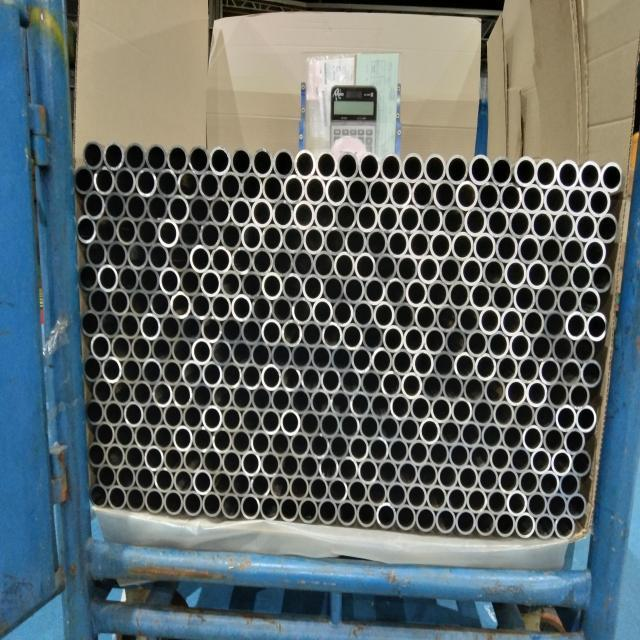pipe: (455, 179, 478, 212), (477, 180, 500, 213), (442, 205, 465, 237), (490, 155, 513, 187), (600, 161, 623, 193), (177, 168, 200, 200), (346, 176, 369, 208), (433, 179, 456, 211), (499, 181, 522, 213), (566, 185, 589, 217), (588, 186, 611, 218), (420, 204, 443, 235), (464, 206, 487, 237), (486, 207, 509, 238), (508, 208, 531, 239), (531, 209, 554, 240), (552, 210, 575, 241), (408, 229, 431, 260), (429, 229, 452, 260), (473, 232, 496, 263), (517, 234, 540, 265), (540, 235, 563, 266), (562, 236, 585, 267), (439, 255, 462, 286), (504, 258, 527, 289), (526, 259, 549, 290), (548, 260, 571, 291), (448, 280, 471, 311), (535, 284, 558, 315), (557, 285, 580, 316), (124, 141, 147, 172), (336, 150, 359, 181), (401, 152, 424, 183), (423, 153, 446, 184), (446, 154, 469, 185), (470, 155, 493, 186), (514, 156, 537, 187), (556, 159, 579, 190), (578, 160, 601, 191), (411, 178, 434, 209), (521, 183, 544, 214), (544, 184, 567, 215), (304, 174, 326, 206), (325, 175, 347, 207), (368, 176, 390, 208), (390, 177, 412, 209), (452, 232, 475, 262), (495, 233, 518, 263), (460, 256, 483, 286), (482, 257, 505, 287), (469, 281, 492, 311), (491, 282, 514, 312), (513, 283, 536, 313), (436, 303, 459, 333), (457, 304, 480, 334), (478, 306, 501, 336), (543, 310, 566, 340), (146, 192, 168, 223), (272, 198, 294, 229), (293, 200, 315, 231), (314, 200, 336, 231), (335, 201, 357, 232), (356, 202, 378, 233), (378, 203, 400, 234), (399, 203, 421, 234), (575, 211, 597, 242), (596, 212, 618, 243), (178, 219, 200, 250), (366, 227, 388, 258), (584, 237, 606, 268), (418, 254, 440, 285), (570, 261, 592, 292), (590, 262, 612, 293), (578, 287, 600, 318), (145, 142, 167, 173), (167, 143, 189, 174), (252, 147, 274, 178), (273, 148, 295, 179), (535, 158, 557, 189), (135, 167, 157, 198), (156, 168, 178, 199), (198, 170, 220, 201), (220, 171, 242, 202), (241, 172, 263, 203), (262, 173, 284, 204), (283, 174, 305, 205), (115, 165, 136, 197), (104, 191, 126, 221), (167, 194, 189, 224), (136, 217, 158, 247), (241, 222, 263, 252), (262, 223, 284, 253), (282, 224, 304, 254), (324, 226, 346, 256), (344, 227, 366, 257), (387, 228, 409, 258), (148, 242, 170, 272), (168, 243, 190, 273), (210, 245, 232, 275), (313, 250, 335, 280), (333, 251, 355, 281), (375, 252, 397, 282), (396, 254, 418, 284), (179, 267, 201, 297), (241, 270, 263, 300), (322, 274, 344, 304), (364, 276, 386, 306), (384, 277, 406, 307), (406, 278, 428, 308), (427, 279, 449, 309), (394, 301, 416, 331), (414, 302, 436, 332), (500, 307, 522, 337), (522, 308, 544, 338), (565, 311, 587, 341), (424, 326, 446, 356), (446, 328, 468, 358), (82, 140, 104, 170), (315, 150, 337, 180), (359, 152, 381, 182), (380, 152, 402, 182), (210, 195, 231, 226), (252, 197, 273, 228), (127, 240, 148, 271), (103, 140, 124, 171), (188, 144, 209, 175), (210, 145, 231, 176), (231, 146, 252, 177), (295, 149, 316, 180), (94, 165, 115, 196), (149, 290, 172, 318), (271, 295, 293, 324), (332, 298, 354, 327), (352, 299, 374, 328), (373, 300, 395, 329), (160, 313, 182, 342), (362, 323, 384, 352), (382, 324, 404, 353), (126, 192, 147, 222), (189, 195, 210, 225), (231, 197, 252, 227), (95, 215, 116, 245), (116, 216, 137, 246), (158, 218, 179, 248), (200, 220, 221, 250), (221, 221, 242, 251), (304, 225, 325, 255), (86, 239, 107, 269), (107, 240, 128, 270), (190, 244, 211, 274), (252, 247, 273, 277), (272, 248, 293, 278), (293, 248, 314, 278), (355, 252, 376, 282), (118, 264, 139, 294), (139, 265, 160, 295), (159, 266, 180, 296), (221, 269, 242, 299), (282, 272, 303, 302), (303, 273, 324, 303), (344, 275, 365, 305), (586, 312, 607, 342), (488, 330, 509, 360), (510, 332, 531, 362), (531, 333, 552, 363), (573, 335, 594, 365), (581, 359, 602, 389), (73, 165, 94, 195), (84, 190, 105, 220), (312, 298, 334, 326), (412, 349, 434, 377), (407, 440, 429, 468), (428, 441, 450, 469), (448, 442, 470, 470), (469, 444, 491, 472), (397, 460, 419, 488), (417, 462, 439, 490), (437, 463, 459, 491), (457, 464, 479, 492), (477, 466, 499, 494), (498, 467, 520, 495), (518, 469, 540, 497), (539, 470, 561, 498), (558, 471, 580, 499), (406, 484, 428, 512), (426, 484, 448, 512), (466, 487, 488, 515), (446, 487, 468, 515), (486, 489, 508, 517), (506, 490, 528, 518), (527, 491, 549, 519), (546, 491, 568, 519), (565, 493, 587, 521), (414, 506, 436, 534), (435, 507, 457, 535), (454, 508, 476, 536), (474, 510, 496, 538), (494, 510, 516, 538), (515, 512, 537, 540), (534, 513, 556, 541), (554, 514, 576, 542), (231, 246, 252, 275), (98, 264, 119, 293), (262, 271, 283, 300), (109, 288, 130, 317), (129, 288, 150, 317), (170, 290, 191, 319), (191, 291, 212, 320), (251, 294, 272, 323), (292, 296, 313, 325), (120, 311, 141, 340), (181, 314, 202, 343), (241, 317, 262, 346), (281, 319, 302, 348), (403, 325, 424, 354), (467, 329, 488, 358), (552, 335, 573, 364), (433, 351, 454, 380), (454, 352, 475, 381), (476, 353, 497, 382), (497, 354, 518, 383), (518, 356, 539, 385), (539, 358, 560, 387), (561, 358, 582, 387), (401, 371, 422, 400), (422, 373, 443, 402), (442, 375, 463, 404), (463, 375, 484, 404), (485, 377, 506, 406), (505, 378, 526, 407), (526, 380, 547, 409), (548, 381, 569, 410), (569, 382, 590, 411), (390, 394, 411, 423), (411, 395, 432, 424), (431, 397, 452, 426), (452, 397, 473, 426), (472, 399, 493, 428), (494, 401, 515, 430), (513, 403, 534, 432), (535, 403, 556, 432), (556, 403, 577, 432), (575, 405, 596, 434), (358, 412, 379, 441), (379, 414, 400, 443), (399, 416, 420, 445), (419, 418, 440, 447), (440, 419, 461, 448), (460, 420, 481, 449), (482, 422, 503, 451), (502, 424, 523, 453), (522, 425, 543, 454), (543, 426, 564, 455), (564, 427, 585, 456), (368, 435, 389, 464), (490, 445, 511, 474), (510, 446, 531, 475), (531, 447, 552, 476), (551, 449, 572, 478), (571, 449, 592, 478), (261, 364, 283, 391), (89, 287, 110, 315), (100, 310, 121, 338), (140, 313, 161, 341), (261, 318, 282, 346), (301, 320, 322, 348), (342, 322, 363, 350), (90, 333, 111, 361), (110, 334, 131, 362), (131, 335, 152, 363), (151, 336, 172, 364), (271, 341, 292, 369), (291, 343, 312, 371), (311, 344, 332, 372), (331, 345, 352, 373), (351, 346, 372, 374), (372, 348, 393, 376), (392, 348, 413, 376), (102, 356, 123, 384), (121, 357, 142, 385), (141, 358, 162, 386), (221, 361, 242, 389), (300, 365, 321, 393), (341, 369, 362, 397), (361, 369, 382, 397), (381, 370, 402, 398), (132, 379, 153, 407), (270, 386, 291, 414), (290, 387, 311, 415), (310, 389, 331, 417), (350, 391, 371, 419), (330, 391, 351, 419), (370, 392, 391, 420), (389, 438, 410, 466), (78, 263, 98, 292), (201, 269, 221, 298), (322, 321, 342, 350), (320, 367, 341, 394), (112, 379, 133, 406), (123, 400, 144, 427), (142, 402, 163, 429), (242, 408, 263, 435), (261, 408, 282, 435), (114, 422, 135, 449), (153, 424, 174, 451), (250, 430, 271, 457), (270, 431, 291, 458), (260, 452, 281, 479), (279, 452, 300, 479), (269, 473, 290, 500), (289, 475, 310, 502), (308, 476, 329, 503), (298, 498, 319, 525), (211, 293, 231, 321), (232, 294, 252, 322), (201, 315, 221, 343), (221, 316, 241, 344), (172, 337, 192, 365), (192, 337, 212, 365), (231, 339, 251, 367), (251, 341, 271, 369), (182, 359, 202, 387), (241, 362, 261, 390), (281, 364, 301, 392), (93, 377, 113, 405), (192, 382, 212, 410), (232, 384, 252, 412), (251, 385, 271, 413), (281, 409, 301, 437), (300, 410, 320, 438), (320, 411, 340, 439), (339, 413, 359, 441), (309, 431, 329, 459), (290, 432, 310, 460), (330, 433, 350, 461), (349, 436, 369, 464), (299, 453, 319, 481), (319, 454, 339, 482), (338, 456, 358, 484), (357, 458, 377, 486), (378, 459, 398, 487), (328, 477, 348, 505), (347, 478, 367, 506), (367, 480, 387, 508), (387, 481, 407, 509), (337, 499, 357, 527), (357, 500, 377, 528), (376, 501, 396, 529), (396, 504, 416, 532), (192, 427, 213, 453), (212, 428, 233, 454), (202, 448, 223, 474), (80, 310, 100, 337), (212, 340, 232, 367), (162, 359, 182, 386), (202, 361, 222, 388), (172, 381, 192, 408), (152, 381, 172, 408), (212, 383, 232, 410), (104, 399, 124, 426), (163, 403, 183, 430), (183, 404, 203, 431), (202, 406, 222, 433), (222, 407, 242, 434), (134, 423, 154, 450), (231, 428, 251, 455), (232, 429, 252, 456), (124, 444, 144, 471), (144, 445, 164, 472), (97, 462, 117, 489), (135, 466, 155, 493), (174, 467, 194, 494), (154, 468, 174, 495), (193, 470, 213, 497), (211, 470, 231, 497), (231, 471, 251, 498), (251, 472, 271, 499), (108, 484, 128, 511), (126, 486, 146, 513), (145, 487, 165, 514), (183, 489, 203, 516), (163, 490, 183, 517), (202, 491, 222, 518), (221, 492, 241, 519), (241, 494, 261, 521), (260, 495, 280, 522), (279, 496, 299, 523), (318, 498, 338, 525), (83, 355, 102, 383), (173, 425, 193, 451), (164, 446, 184, 472), (184, 447, 204, 473), (222, 450, 242, 476), (241, 451, 261, 477), (85, 399, 104, 426), (95, 421, 114, 448), (88, 441, 107, 468), (106, 444, 125, 471), (116, 465, 135, 492), (89, 483, 108, 510)
